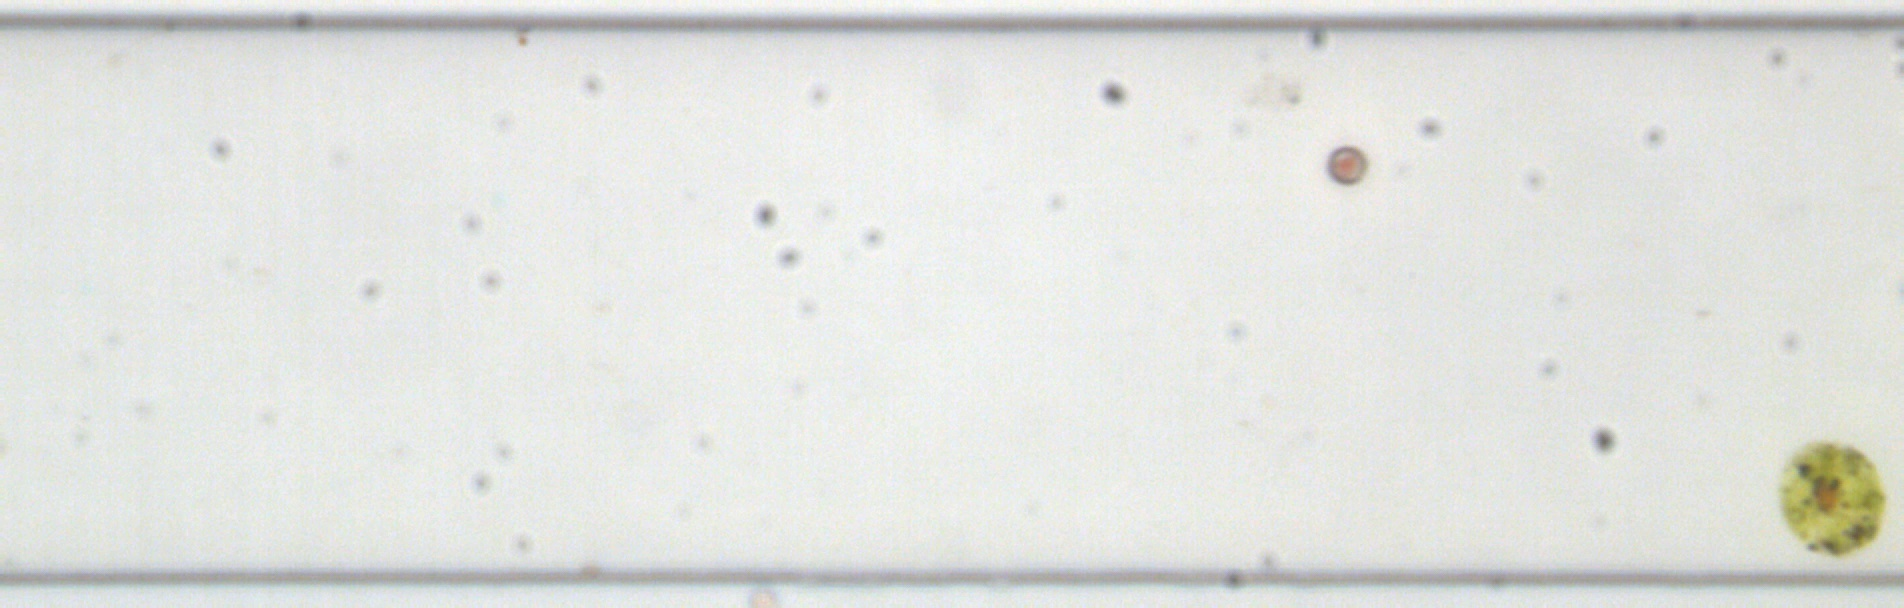Haematococcus: (1773, 434, 1886, 561)
Porphyridium: (1324, 143, 1368, 186)
